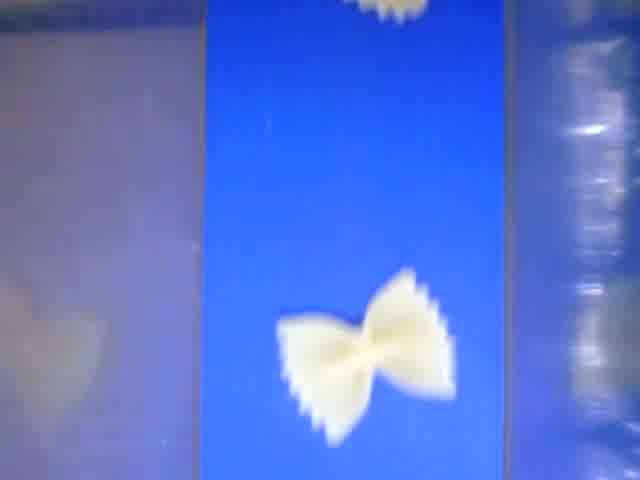farfalle: (278, 267, 457, 446), (352, 1, 430, 23)
